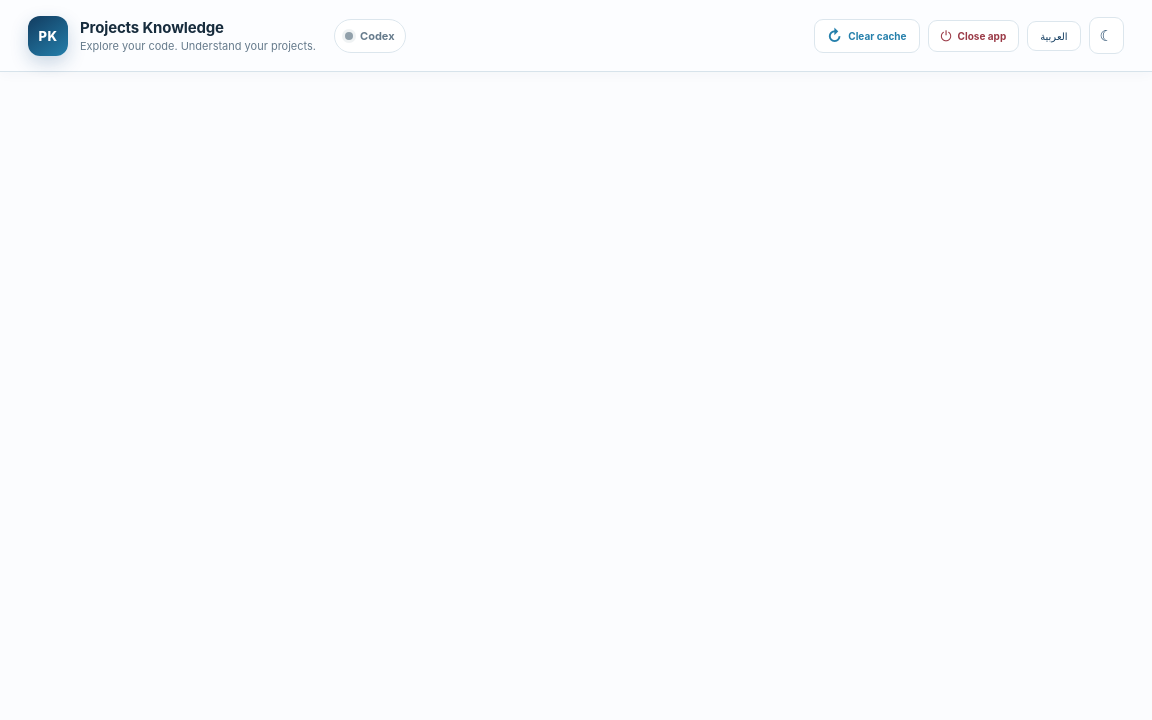
Test: HeaderComponent desktop shutdown › confirms clearing every cache and reports completion
Click the button with class "cache-button" at [867, 36], box [814,18,920,52]
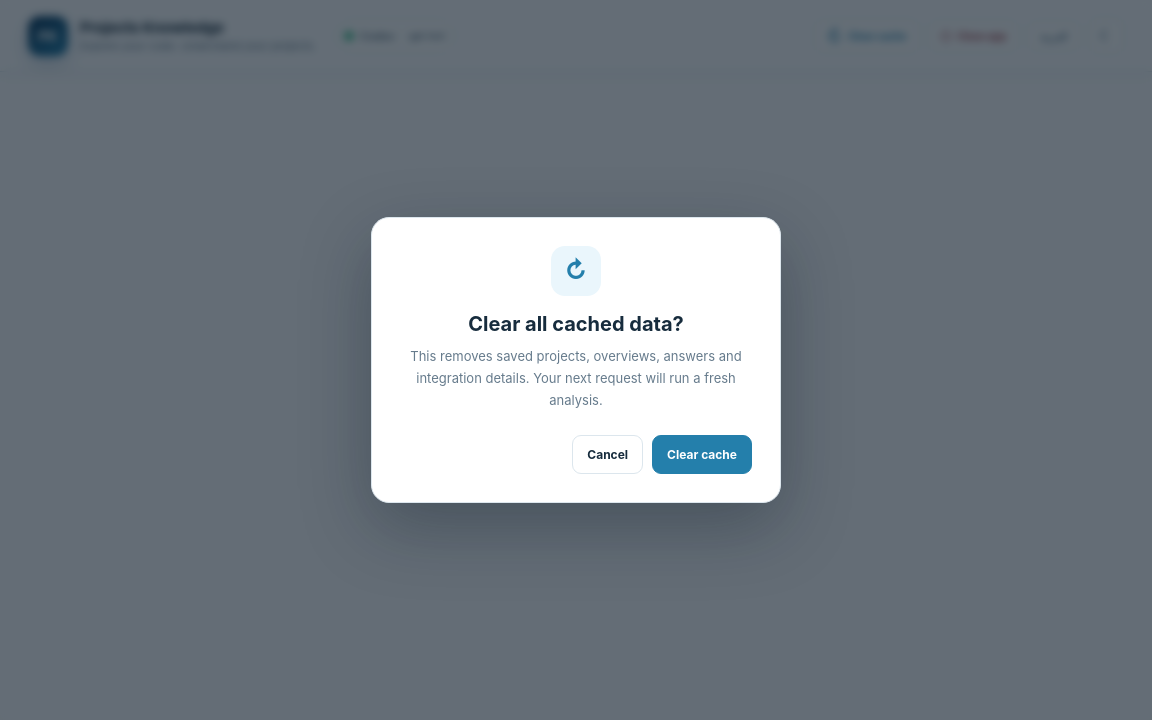
Check: the heading with id "cache-title" reads "Clear all cached data?", box [468,312,684,336]
Click the button with class "confirm-cache" at [702, 455], box [652,435,752,474]
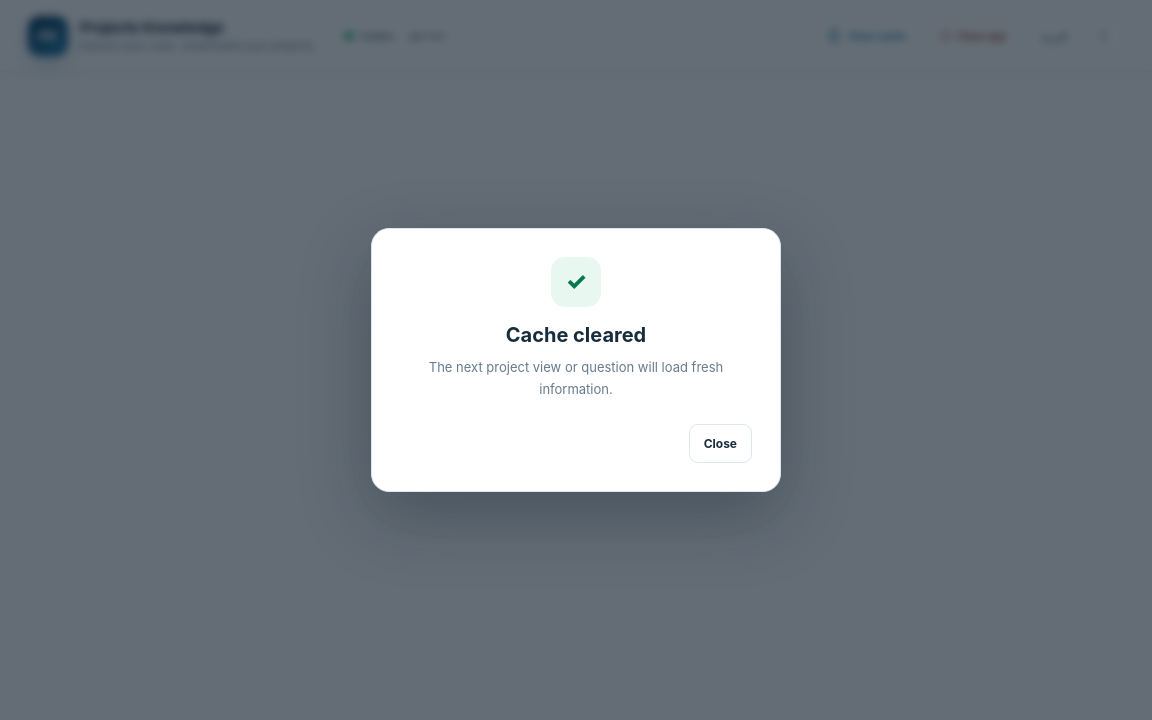
Check: the heading with id "cache-title" reads "Cache cleared", box [506,323,646,347]
